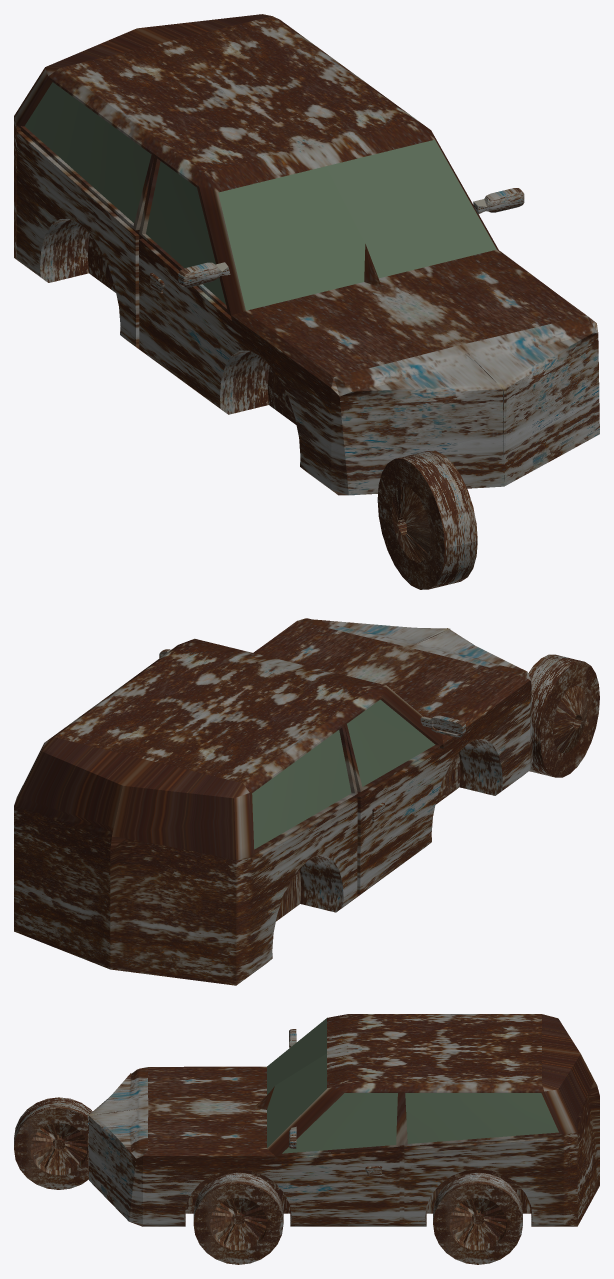
File: MOBIL.glb
3 views of the same model, one above another, from view 1: azimuth 30°, elevation 25°; view 2: azimuth 150°, elevation 25°; view 3: azimuth 270°, elevation 25° (orthographic). The views are drawn at different scales.
Visible parts, largest first — view 1: Cube, body; view 2: Cube, body; view 3: Cube, body.
Boxes of the visible parts, bbox=[...] form: Cube: bbox=[14, 14, 599, 495]; body: bbox=[377, 450, 477, 589]; Cube: bbox=[14, 618, 532, 985]; body: bbox=[528, 654, 599, 777]; Cube: bbox=[87, 1014, 599, 1226]; body: bbox=[14, 1097, 522, 1264].
Bounding box in the file's own units: 3.18 × 2.23 × 7.04.
Materials: 3 (2 with a texture image).
